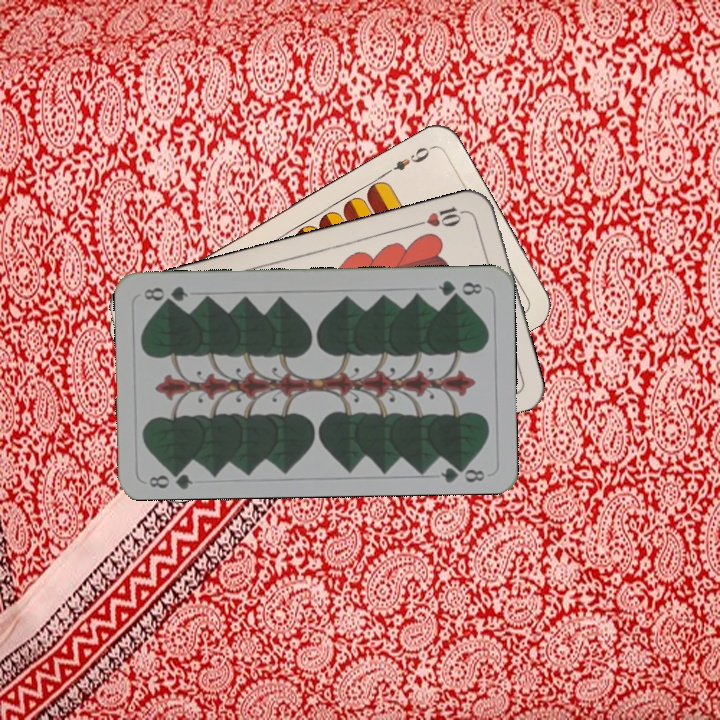E9: (381, 143, 435, 178)
G8: (145, 464, 195, 491), (434, 277, 485, 300)
H10: (412, 202, 471, 230)
